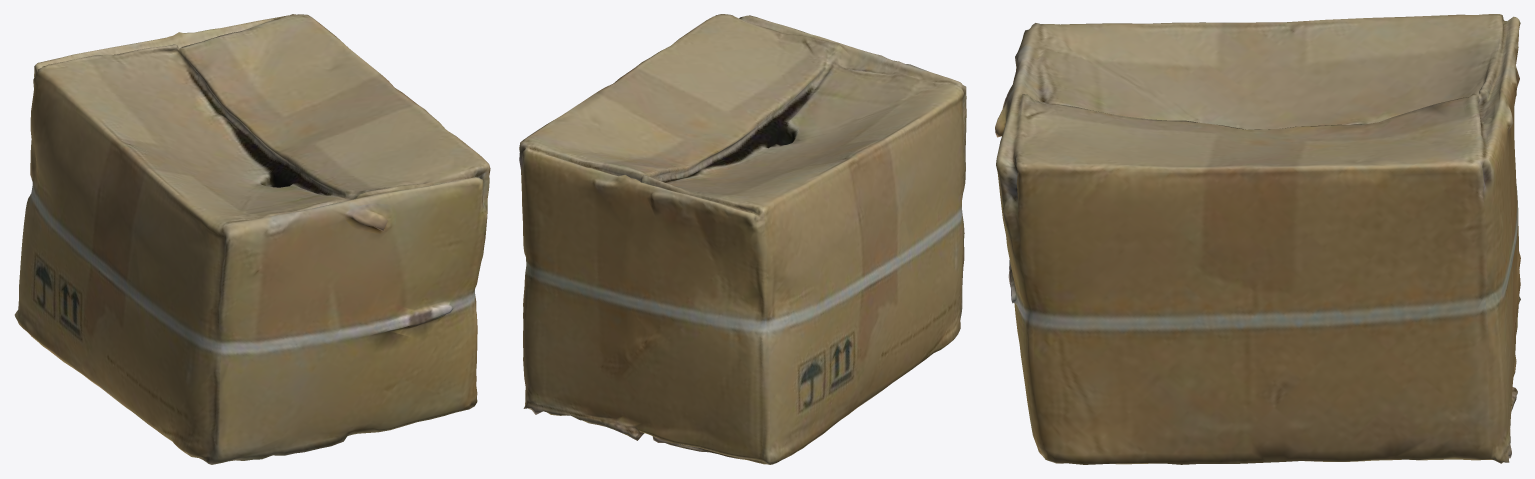
File: cardboard_box.glb
The picture shows the model from 3 angles, left to right: view 1: azimuth 30°, elevation 25°; view 2: azimuth 150°, elevation 25°; view 3: azimuth 270°, elevation 25°; orthographic projection. The views are drawn at different scales.
Visible parts, largest first — view 1: cardboard_box_01; view 2: cardboard_box_01; view 3: cardboard_box_01.
Part boxes in pixels (bbox=[...]): cardboard_box_01: bbox=[14, 14, 490, 464]; cardboard_box_01: bbox=[519, 14, 966, 464]; cardboard_box_01: bbox=[995, 14, 1520, 464].
Bounding box in the file's own units: 0.387 × 0.3418 × 0.5159.
Materials: 1 (1 with a texture image).
